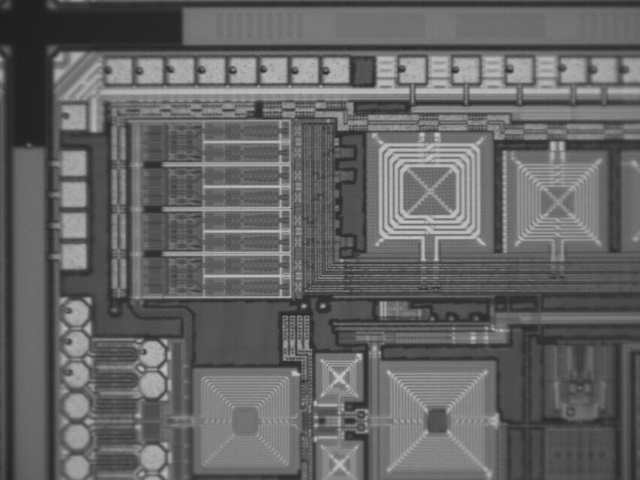shift: (102, 55, 133, 87), (133, 54, 164, 86), (164, 54, 195, 86), (195, 53, 226, 85), (227, 54, 258, 86), (258, 53, 289, 85), (289, 53, 320, 85), (321, 53, 352, 85), (397, 53, 428, 85), (449, 53, 480, 85), (503, 53, 534, 85), (557, 54, 588, 86), (587, 53, 618, 85), (57, 99, 88, 131), (60, 295, 91, 327), (59, 327, 90, 359), (59, 359, 90, 391), (136, 337, 167, 369), (618, 53, 640, 85)
